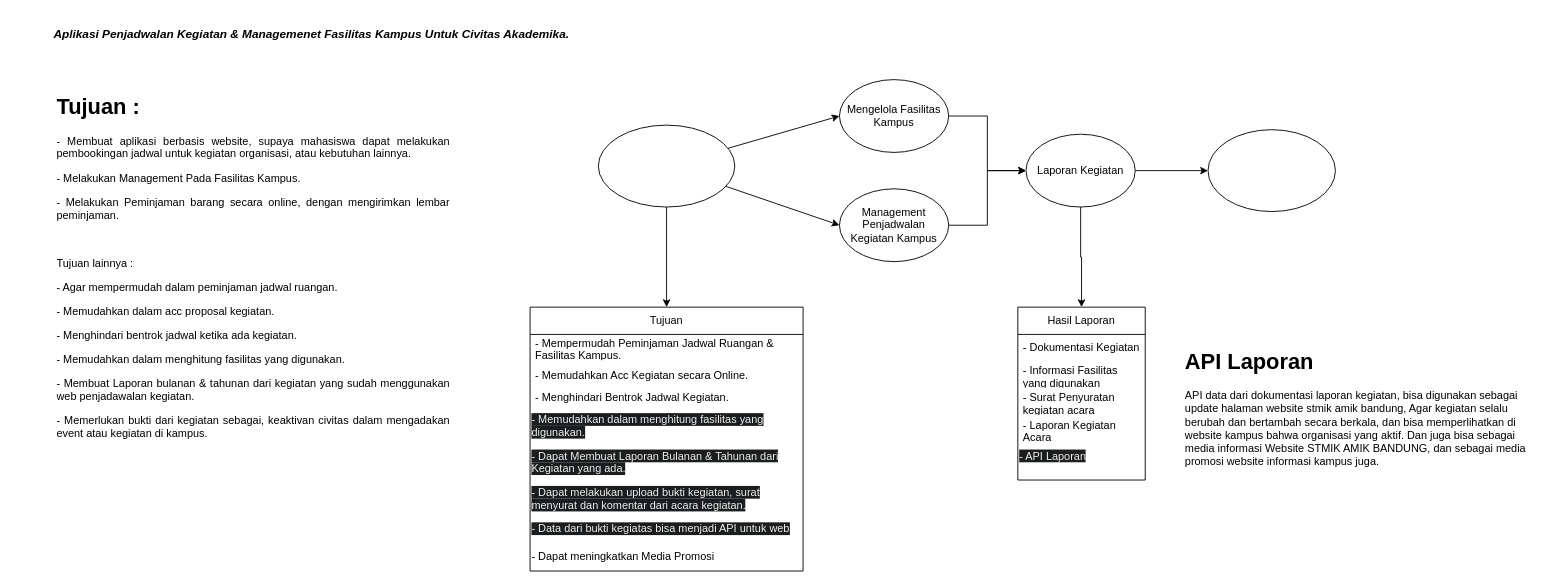
Some shapes in this 1551 by 587 pixel diagram are drawn without their labels. The shapes that lost their labels are listed below. From the top down, each one's centre as x and y in pixels, then its label:
At pixel 666 165: "Aplikasi Penjadwalan & Manajement Fasilitas Kampus".
At pixel 1271 170: "Website STMIK AMIK BANDUNG".
